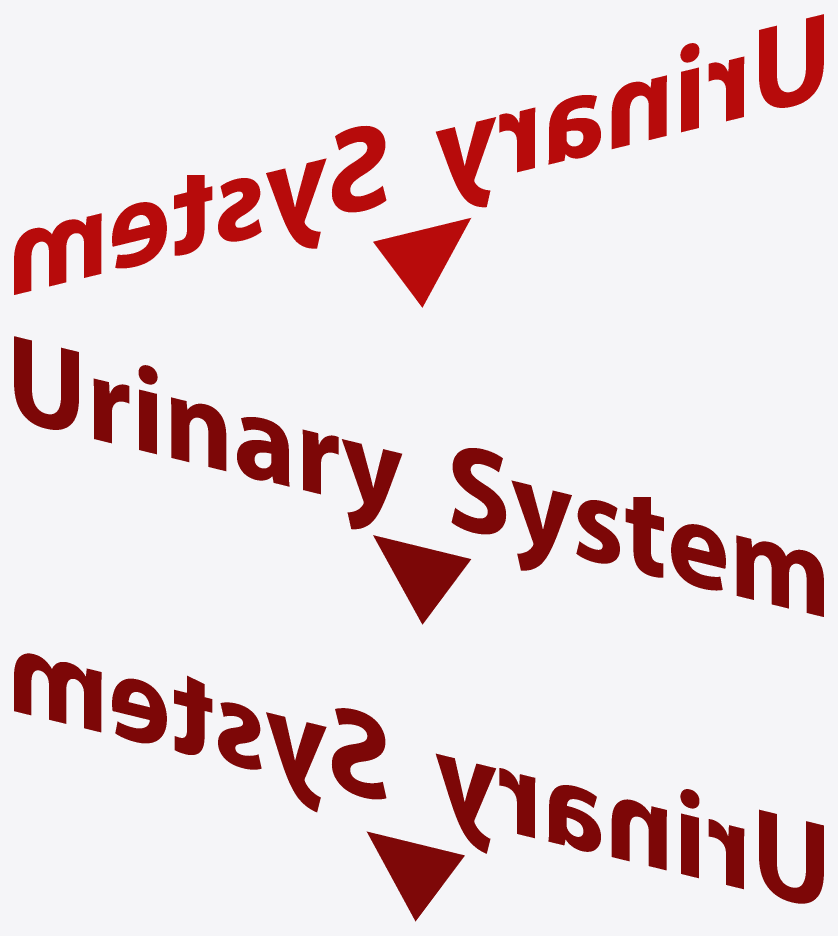
The model's file is Urinary System FBX.FBX.
3 renders of one model, top to bottom at view 1: azimuth 30°, elevation 25°; view 2: azimuth 150°, elevation 25°; view 3: azimuth 330°, elevation 25°, orthographic.
Parts seen in each view (by area): view 1: Urinary System_TXT, Arrow; view 2: Urinary System_TXT, Arrow; view 3: Urinary System_TXT, Arrow.
Boxes of the visible parts, x1=… form: Urinary System_TXT: x1=14, y1=14, x2=823, y2=294; Arrow: x1=373, y1=218, x2=470, y2=307; Urinary System_TXT: x1=14, y1=336, x2=823, y2=616; Arrow: x1=373, y1=535, x2=470, y2=624; Urinary System_TXT: x1=14, y1=653, x2=823, y2=903; Arrow: x1=366, y1=831, x2=464, y2=921.
Size of the model in its own units: 166 by 38.31 by 1.23.
